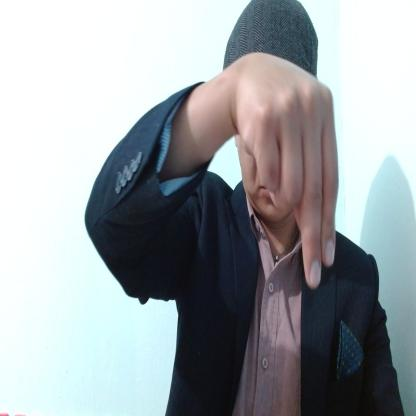N: (230, 54, 341, 292)
